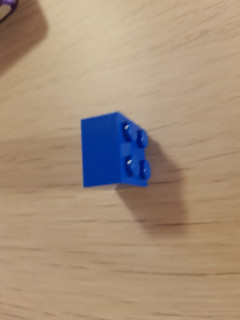2x2 blue: (78, 108, 155, 194)
